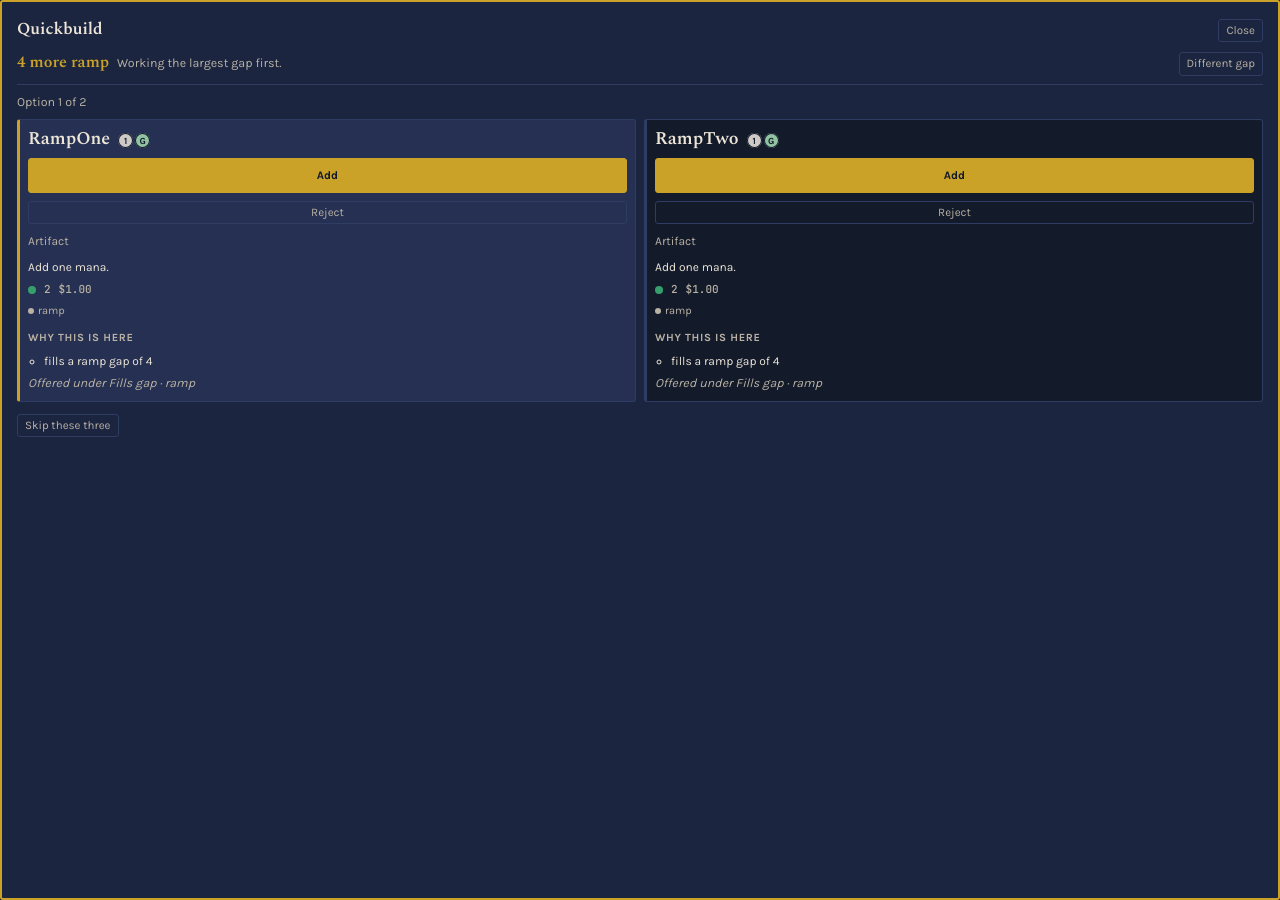
Test: a stale queue is discarded, never shown › does not show the old gap’s cards under a new gap
Check: the heading "RampOne" is shown, box [28,128,110,150]
Click the button "Different gap": click(1221, 64) [1178,52,1263,76]
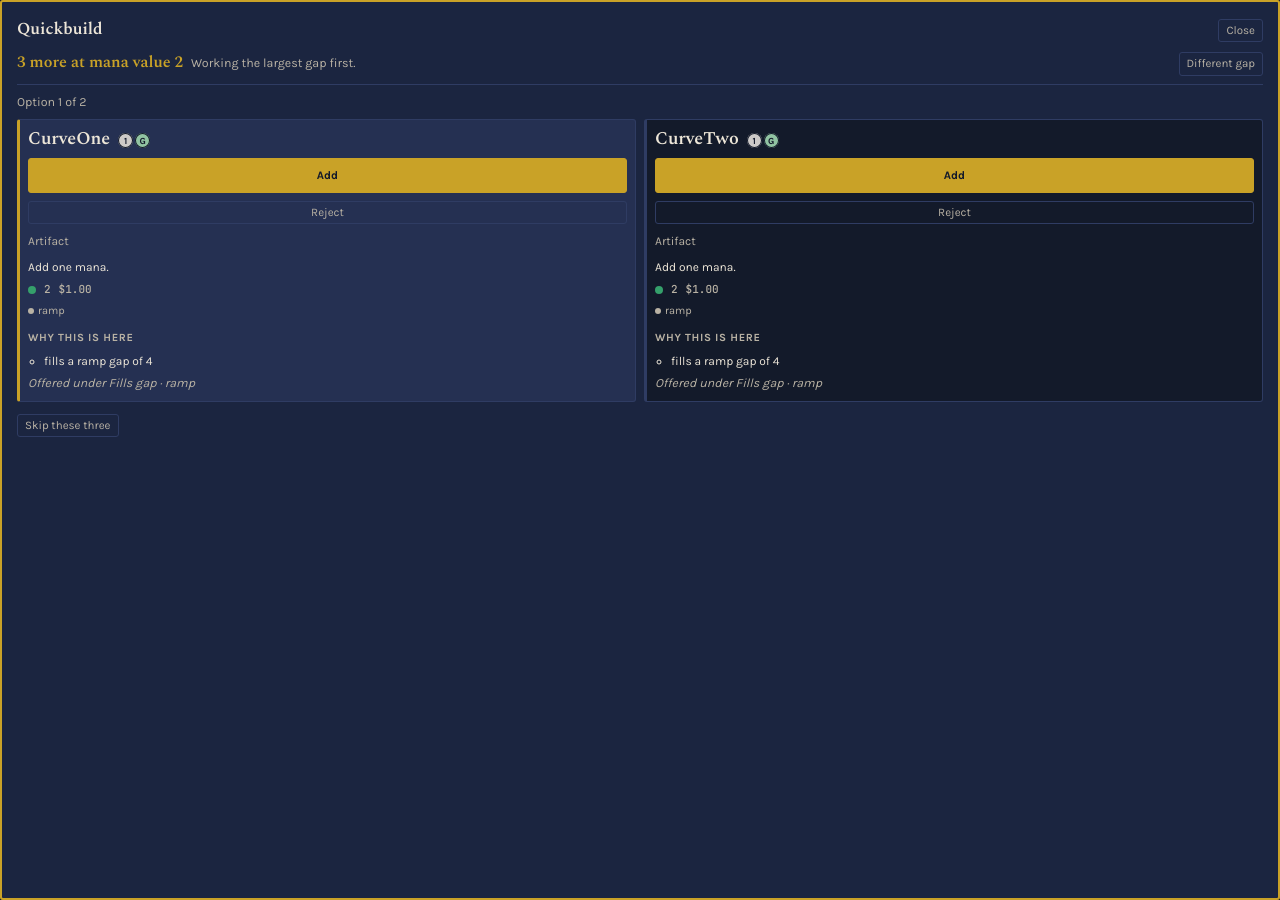
Check: the heading "CurveOne" is shown, box [28,128,110,150]
Check: the heading "RampOne" is gone
